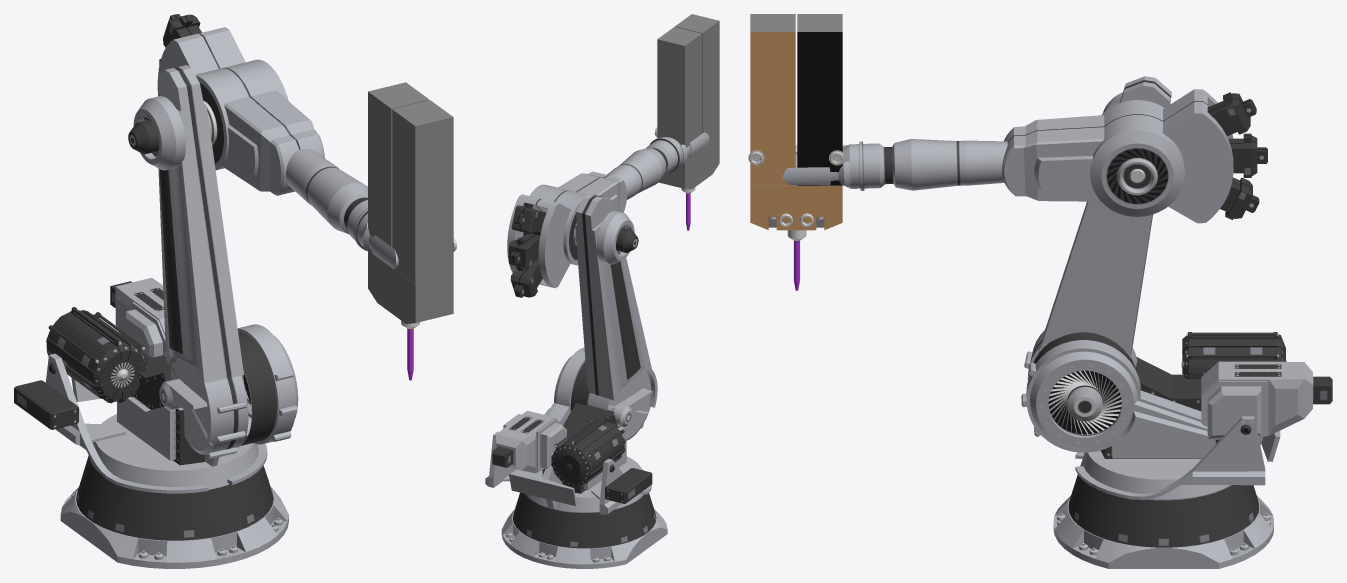
File: printerhead2.gltf
3 renders of one model, left to right at view 1: azimuth 30°, elevation 25°; view 2: azimuth 150°, elevation 25°; view 3: azimuth 270°, elevation 25°, orthographic. The views are drawn at different scales.
Parts seen in each view (by area): view 1: Base, Vertical Arm, Horizontal Arm, Cube.005; view 2: Base, Horizontal Arm, Vertical Arm, Cube.005; view 3: Base, Horizontal Arm, Cube.005, Vertical Arm.
Part boxes in pixels (left/top/right/bottom): Base: left=14, top=277, right=298, bottom=568; Vertical Arm: left=158, top=65, right=248, bottom=458; Horizontal Arm: left=128, top=14, right=398, bottom=268; Cube.005: left=368, top=82, right=453, bottom=323; Base: left=485, top=347, right=667, bottom=568; Horizontal Arm: left=507, top=132, right=709, bottom=297; Vertical Arm: left=575, top=193, right=657, bottom=440; Cube.005: left=657, top=14, right=719, bottom=189; Base: left=1021, top=332, right=1332, bottom=568; Horizontal Arm: left=782, top=89, right=1267, bottom=223; Cube.005: left=750, top=14, right=842, bottom=230; Vertical Arm: left=1024, top=76, right=1171, bottom=379.
Size of the model in its own units: 5.93 by 15.63 by 15.7.
10 materials, 1 textured.
